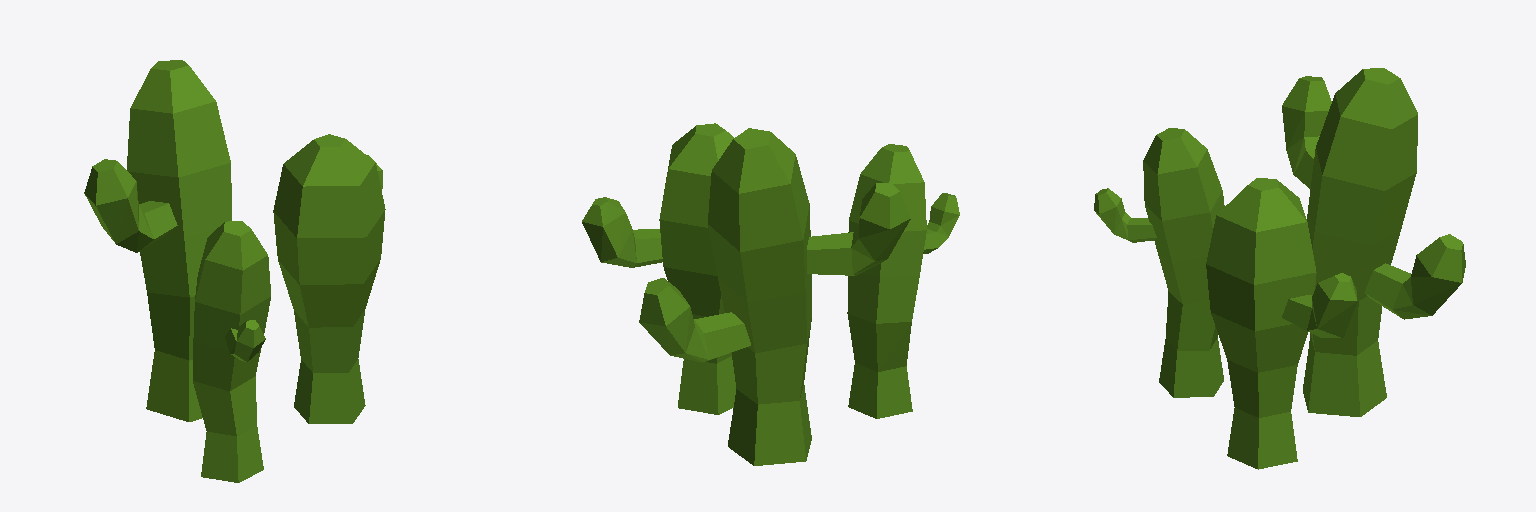
The model's file is cactus.obj.
The picture shows the model from 3 angles: view 1: azimuth 30°, elevation 25°; view 2: azimuth 150°, elevation 25°; view 3: azimuth 270°, elevation 25°; orthographic projection.
Parts seen in each view (by area): view 1: Cactus; view 2: Cactus; view 3: Cactus.
Part boxes in pixels (x1,y1,x2,y2): Cactus: (84, 60, 385, 482); Cactus: (582, 123, 959, 465); Cactus: (1094, 68, 1465, 469).
Bounding box in the file's own units: 2.62 × 2.73 × 2.78.